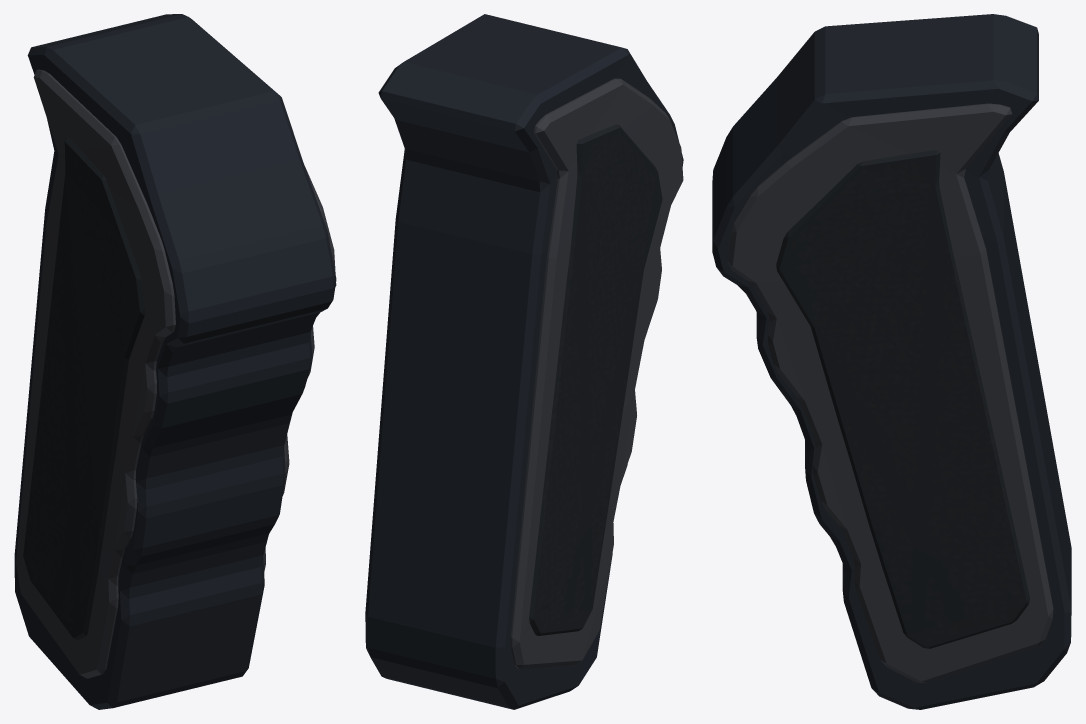
Rendered from grip.obj.
3 views of the same model, side by side, from view 1: azimuth 30°, elevation 25°; view 2: azimuth 150°, elevation 25°; view 3: azimuth 270°, elevation 25° (orthographic).
Parts seen in each view (by area): view 1: grip; view 2: grip; view 3: grip.
Boxes of the visible parts, left/top/right/bottom form: grip: left=14, top=14, right=336, bottom=709; grip: left=365, top=14, right=683, bottom=709; grip: left=712, top=14, right=1071, bottom=709.
Size of the model in its own units: 0.0436 by 0.1499 by 0.0773.
1 material, 1 textured.
